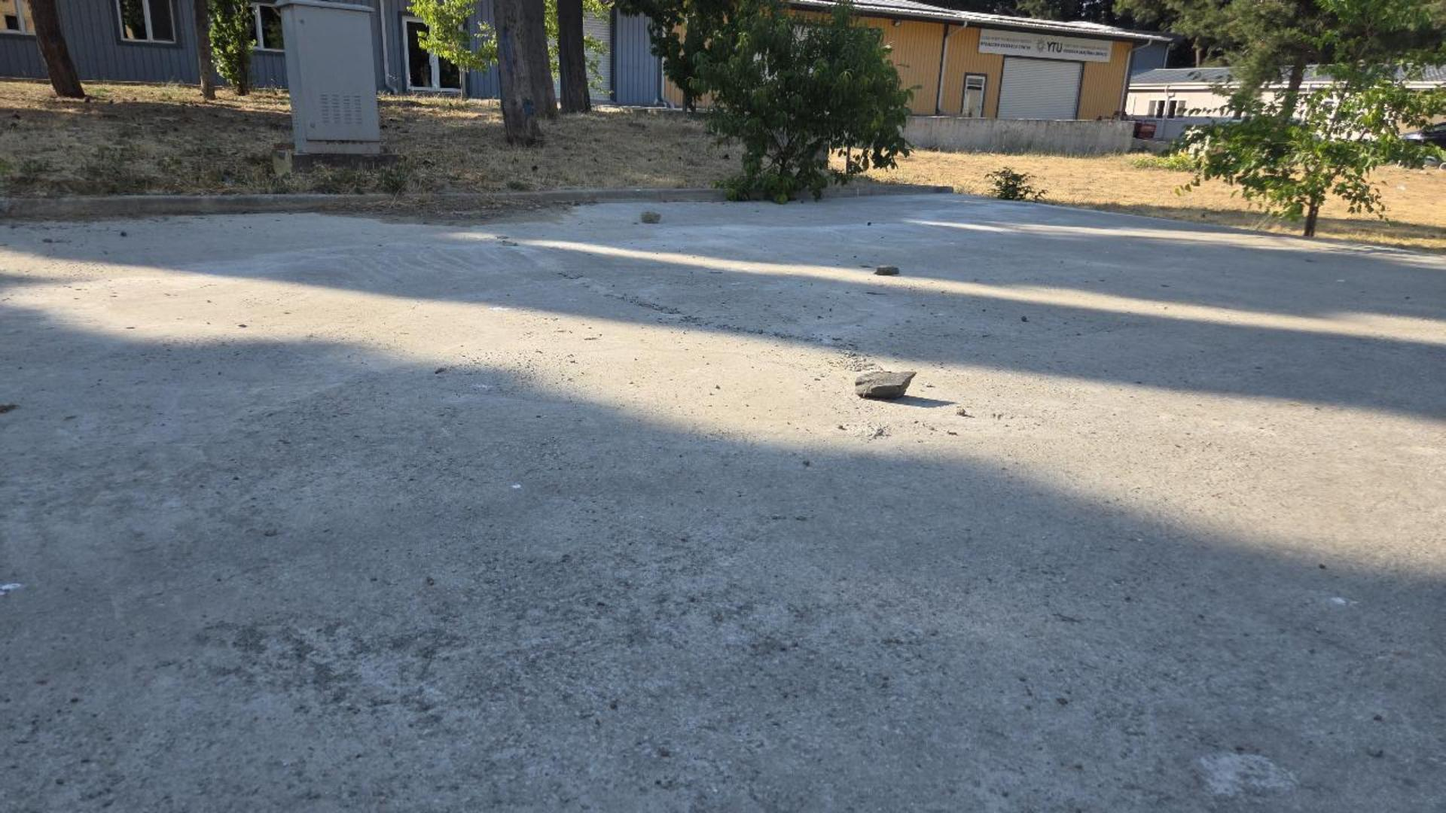rock: (855, 370, 915, 399), (874, 265, 899, 276), (641, 210, 661, 222)
